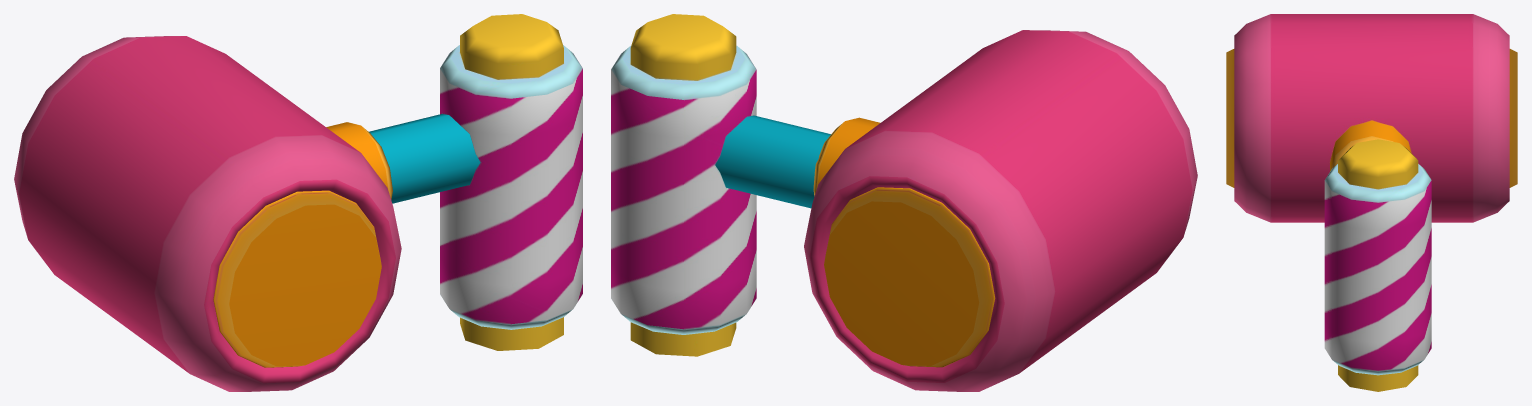
File: OBS0110050.fbx
The picture shows the model from 3 angles, left to right: view 1: azimuth 30°, elevation 25°; view 2: azimuth 150°, elevation 25°; view 3: azimuth 270°, elevation 25°; orthographic projection. The views are drawn at different scales.
Visible parts, largest first — view 1: smOBS0110050; view 2: smOBS0110050; view 3: smOBS0110050.
Boxes of the visible parts, x1,y1,x2,y2 form: smOBS0110050: [14, 14, 582, 391]; smOBS0110050: [611, 14, 1197, 391]; smOBS0110050: [1226, 14, 1517, 391].
Bounding box in the file's own units: 273 × 170 × 188.
